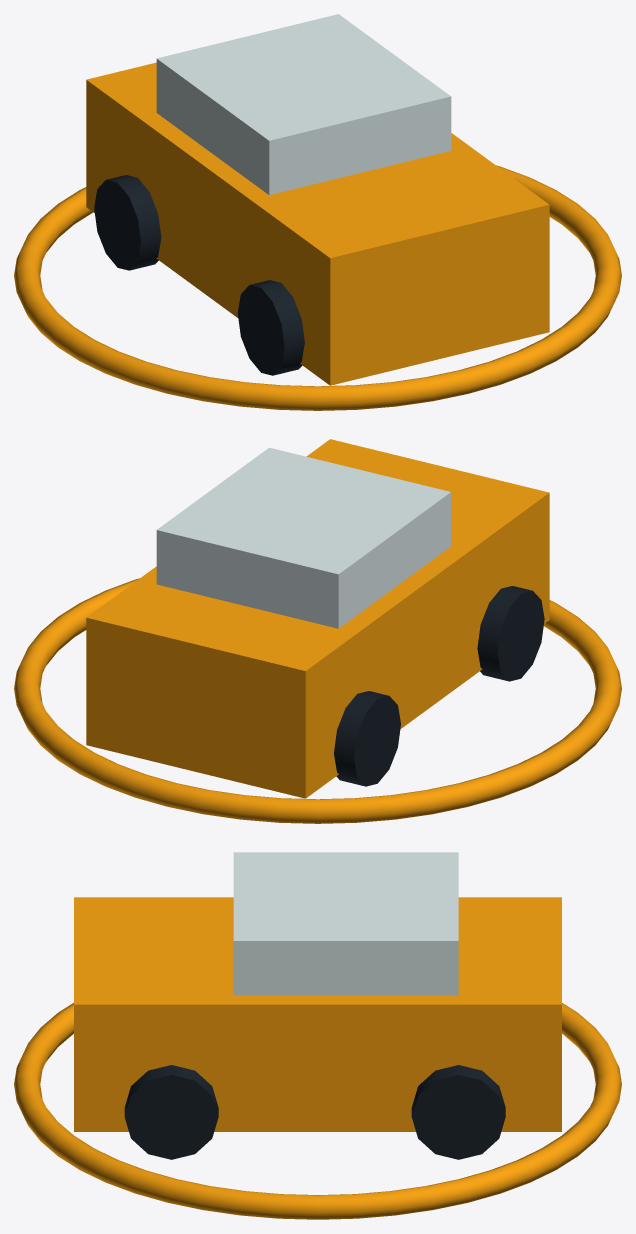
Rendered from car-warning.glb.
3 renders of one model, top to bottom at view 1: azimuth 30°, elevation 25°; view 2: azimuth 150°, elevation 25°; view 3: azimuth 270°, elevation 25°, orthographic.
Size of the model in its own units: 3.24 by 1.17 by 3.24.
